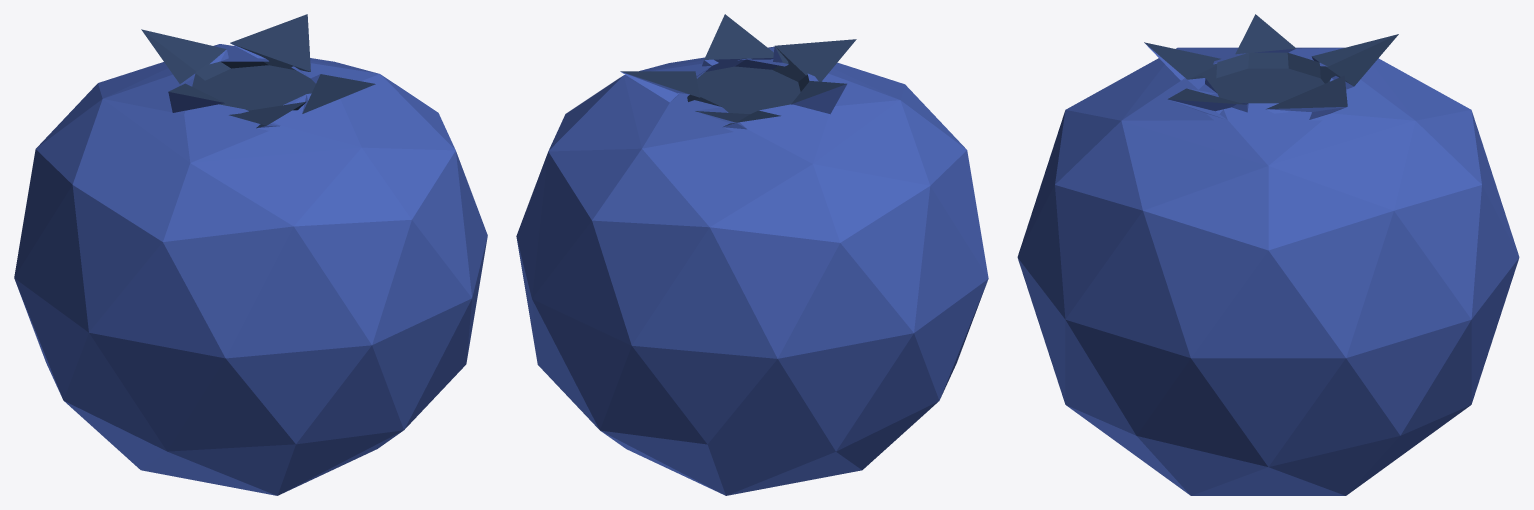
The model's file is Blueberry.fbx.
The picture shows the model from 3 angles, left to right: view 1: azimuth 30°, elevation 25°; view 2: azimuth 150°, elevation 25°; view 3: azimuth 270°, elevation 25°; orthographic projection. The views are drawn at different scales.
Visible parts, largest first — view 1: Icosphere.006; view 2: Icosphere.006; view 3: Icosphere.006.
Part boxes in pixels (x1,y1,x2,y2): Icosphere.006: (14, 14, 487, 495); Icosphere.006: (516, 14, 988, 495); Icosphere.006: (1017, 14, 1519, 495).
Size of the model in its own units: 43.3 by 42.74 by 45.52.
